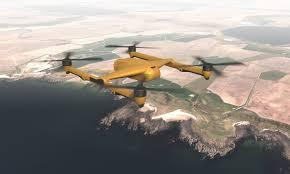drone: (40, 43, 247, 107)
